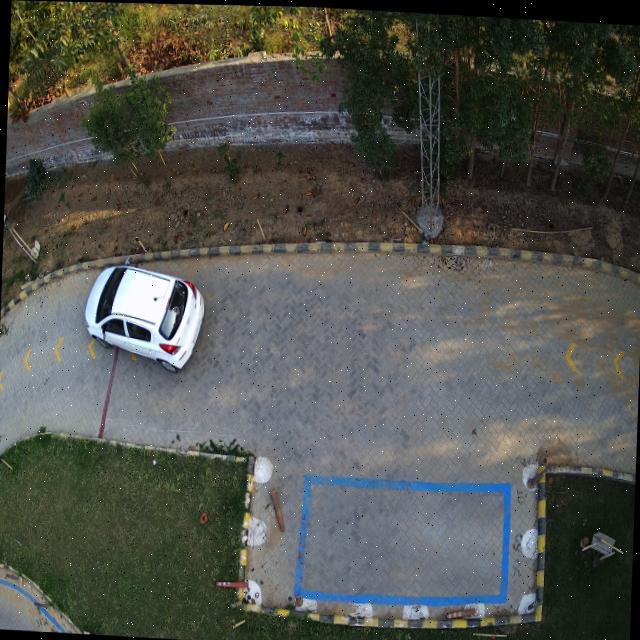car: (84, 264, 204, 369)
